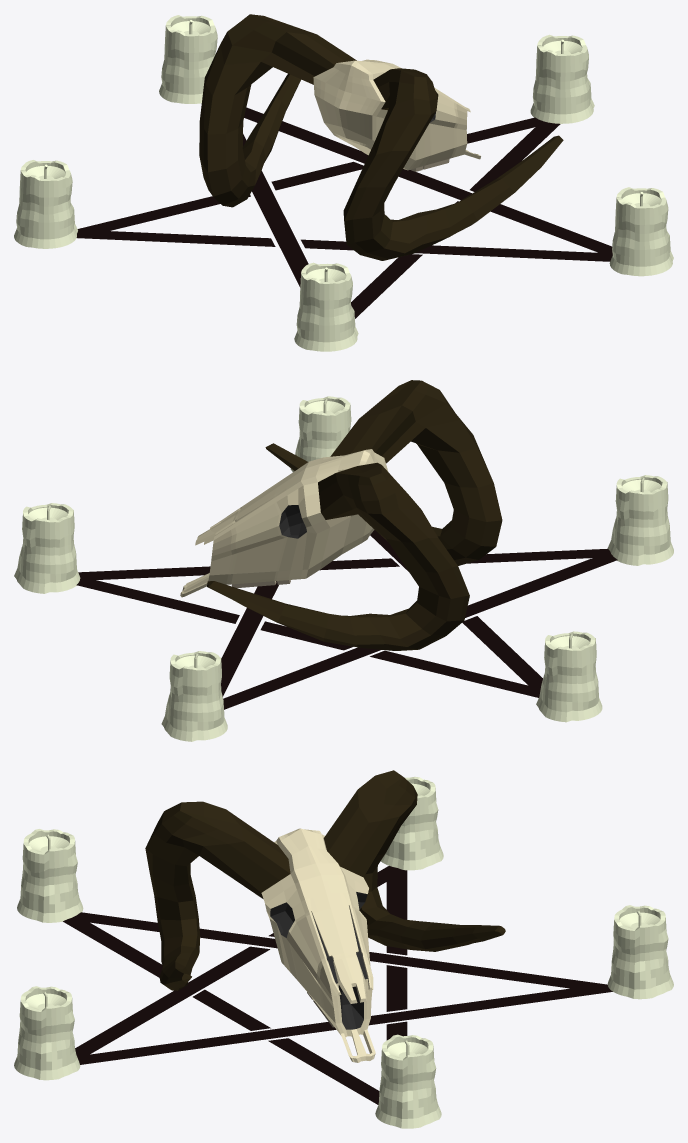
Rendered from CenterModel_Prot_02.fbx.
3 views of the same model, one above another, from view 1: azimuth 30°, elevation 25°; view 2: azimuth 150°, elevation 25°; view 3: azimuth 270°, elevation 25° (orthographic). The views are drawn at different scales.
Parts seen in each view (by area): view 1: Ram.001, Circle.002, Cylinder.031, Cylinder.034, Cylinder.024, Cylinder.033, Cylinder.028; view 2: Ram.001, Circle.002, Cylinder.028, Cylinder.031, Cylinder.024, Cylinder.033, Cylinder.034; view 3: Ram.001, Circle.002, Cylinder.028, Cylinder.033, Cylinder.034, Cylinder.024, Cylinder.031.
Part boxes in pixels (bbox=[...]): Ram.001: bbox=[199, 14, 563, 260]; Circle.002: bbox=[76, 107, 612, 318]; Cylinder.031: bbox=[14, 160, 77, 248]; Cylinder.034: bbox=[609, 187, 673, 276]; Cylinder.024: bbox=[294, 262, 358, 351]; Cylinder.033: bbox=[530, 34, 594, 123]; Cylinder.028: bbox=[159, 15, 217, 103]; Ram.001: bbox=[180, 380, 502, 650]; Circle.002: bbox=[76, 530, 617, 709]; Cylinder.028: bbox=[161, 651, 227, 741]; Cylinder.031: bbox=[536, 631, 602, 722]; Cylinder.024: bbox=[608, 475, 673, 565]; Cylinder.033: bbox=[14, 503, 80, 593]; Cylinder.034: bbox=[290, 396, 351, 471]; Ram.001: bbox=[145, 770, 505, 1062]; Circle.002: bbox=[63, 866, 612, 1104]; Cylinder.028: bbox=[607, 905, 673, 999]; Cylinder.033: bbox=[375, 1034, 441, 1128]; Cylinder.034: bbox=[14, 986, 80, 1080]; Cylinder.024: bbox=[17, 829, 83, 922]; Cylinder.031: bbox=[381, 776, 443, 870].
Bounding box in the file's own units: 205 × 61.65 × 199.
